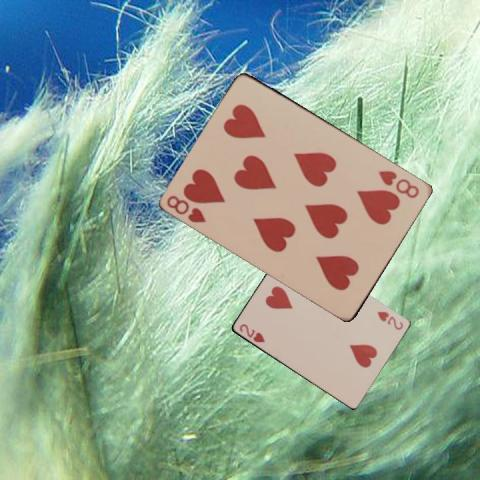2h: (373, 308, 404, 331), (236, 321, 266, 344)
8h: (376, 167, 422, 200), (164, 192, 208, 225)
